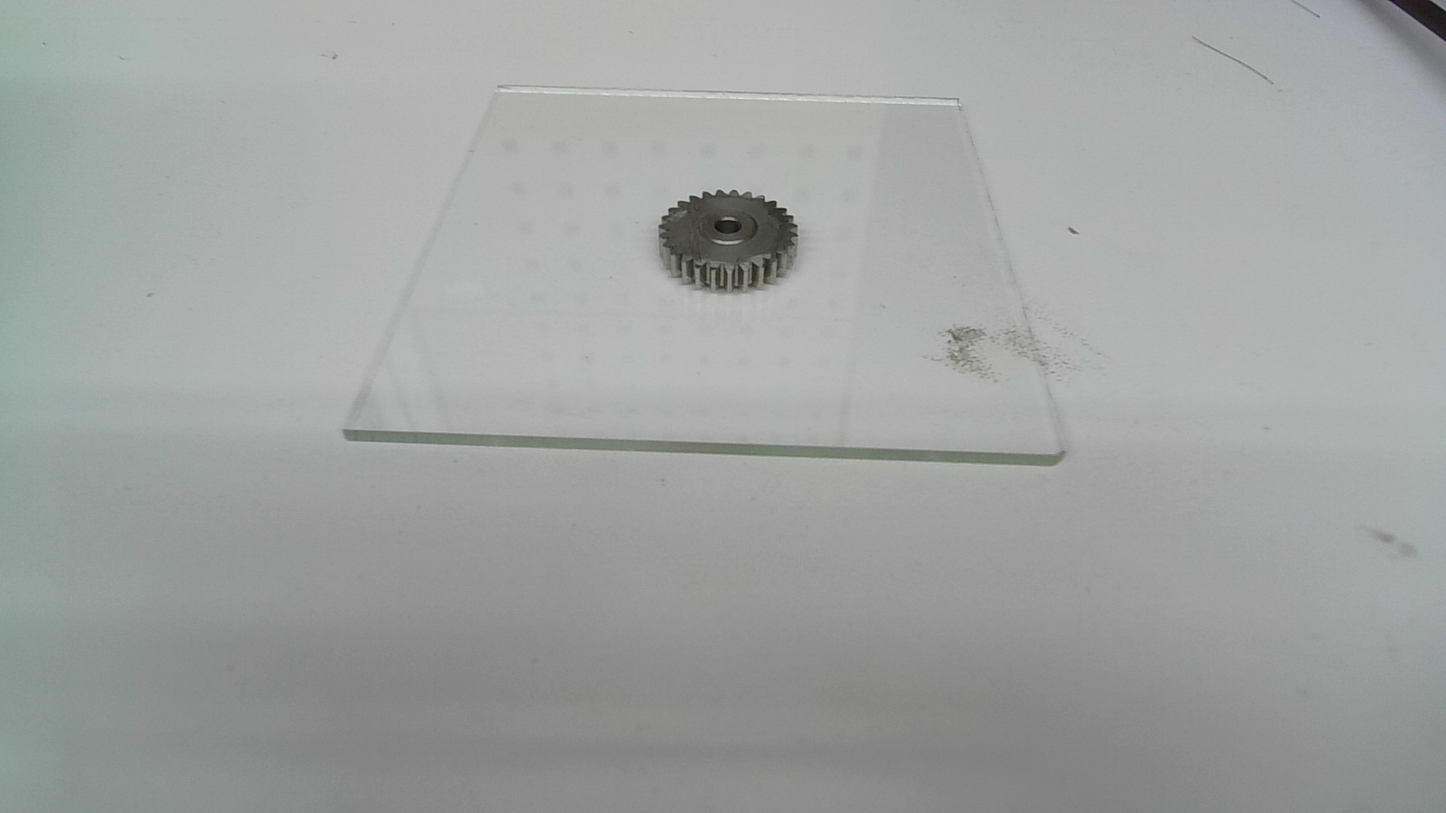gear: (656, 186, 801, 296)
